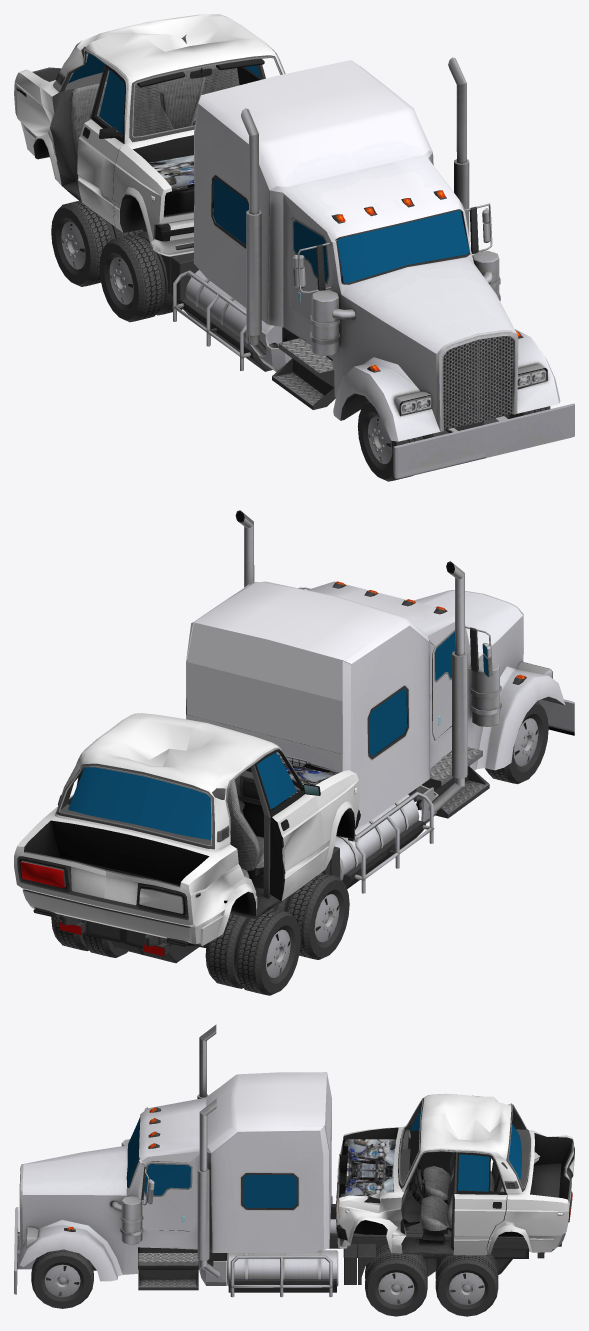
Rendered from Car11.fbx.
The picture shows the model from 3 angles, top to bottom: view 1: azimuth 30°, elevation 25°; view 2: azimuth 150°, elevation 25°; view 3: azimuth 270°, elevation 25°; orthographic projection. The views are drawn at different scales.
Visible parts, largest first — view 1: Body, Roof, Body_2, Roof_1, Truck_1_SidePanel_3_L__1_, BumperF, Oldie_Dashboard, Front_Glass_, Tire_7, Door, Pipe, Tire_9 (+14 smaller); view 2: Roof, Body, Body_2, Roof_1, Truck_1_SidePanel_3_L__1_, _Glass_Back, Door, Tire_9, Pipe, Tire_7, BumperB, Oldie_Dashboard (+15 smaller); view 3: Body, Body_2, Roof, Truck_1_SidePanel_3_L, Roof_1, Oldie_Dashboard, Classic_1_Door_RB, Truck_1_Door_FL_1, Tire_8, Tire_3, Tire_5, Pipe__1_ (+12 smaller).
Boxes of the visible parts, <box> form: Body: <box>143,60,560,445</box>; Roof: <box>194,60,463,242</box>; Body_2: <box>14,67,194,247</box>; Roof_1: <box>54,14,285,139</box>; Truck_1_SidePanel_3_L__1_: <box>161,243,335,409</box>; BumperF: <box>393,403,574,479</box>; Oldie_Dashboard: <box>71,58,264,164</box>; Front_Glass_: <box>337,210,469,282</box>; Tire_7: <box>99,234,165,322</box>; Door: <box>77,65,125,226</box>; Pipe: <box>241,108,278,356</box>; Tire_9: <box>51,201,115,286</box>; Roof: <box>187,581,454,753</box>; Body: <box>59,584,565,963</box>; Body_2: <box>14,753,359,946</box>; Roof_1: <box>56,713,300,849</box>; Truck_1_SidePanel_3_L__1_: <box>322,747,489,893</box>; _Glass_Back: <box>68,767,210,839</box>; Door: <box>254,749,323,901</box>; Tire_9: <box>234,908,300,995</box>; Pipe: <box>416,561,467,812</box>; Tire_7: <box>284,872,349,959</box>; BumperB: <box>22,889,192,946</box>; Oldie_Dashboard: <box>227,770,299,888</box>; Body: <box>19,1117,544,1281</box>; Body_2: <box>336,1124,574,1255</box>; Roof: <box>138,1072,331,1192</box>; Truck_1_SidePanel_3_L: <box>138,1244,375,1297</box>; Roof_1: <box>401,1093,527,1192</box>; Oldie_Dashboard: <box>400,1129,504,1245</box>; Classic_1_Door_RB: <box>453,1152,506,1255</box>; Truck_1_Door_FL_1: <box>138,1161,194,1230</box>; Tire_8: <box>365,1253,427,1316</box>; Tire_3: <box>435,1255,498,1316</box>; Tire_5: <box>31,1249,93,1308</box>; Pipe__1_: <box>197,1099,219,1277</box>.
Size of the model in its own units: 322 by 416 by 956.
